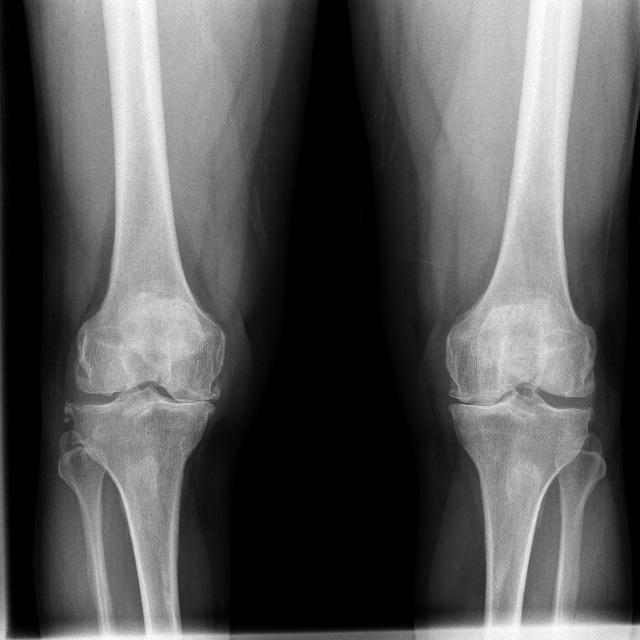Knee: (62, 309, 229, 465), (441, 324, 597, 464)
